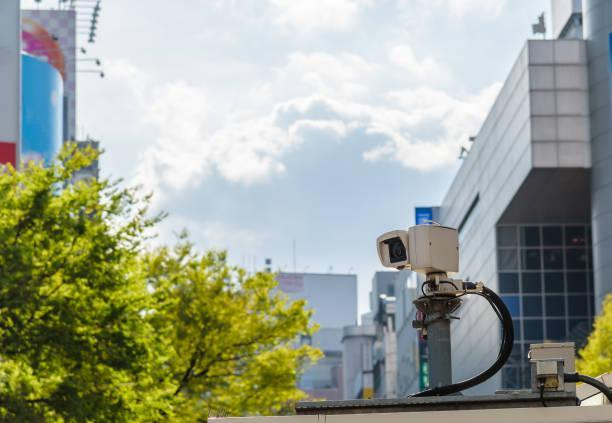camera: (362, 211, 468, 313)
